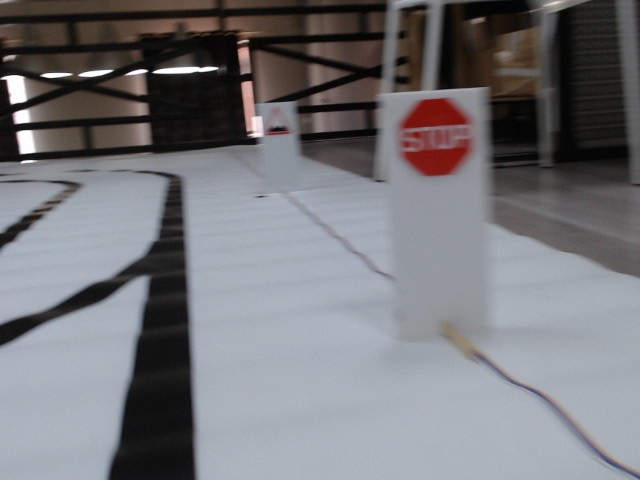Nerov: (264, 105, 290, 135)
Stop: (396, 98, 475, 179)
